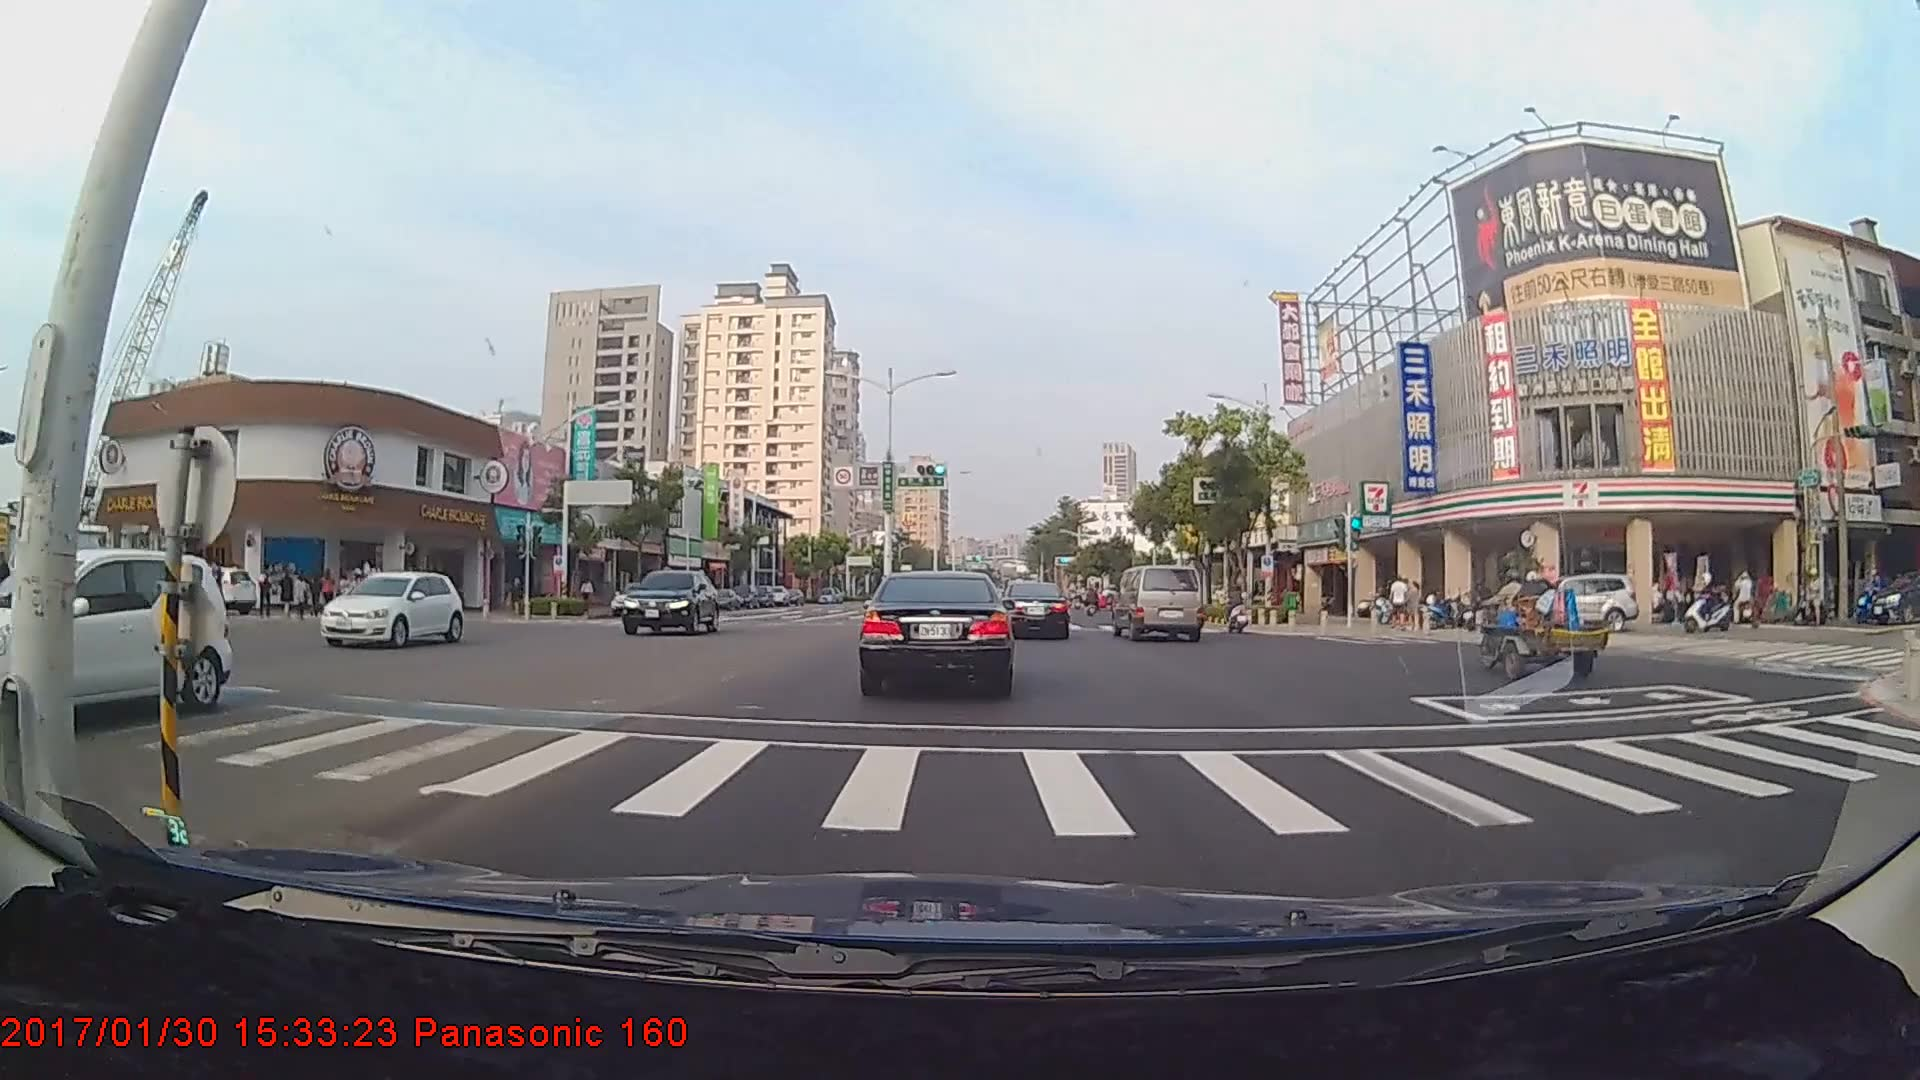pedestrian: (1387, 572, 1408, 629)
rider: (1679, 568, 1743, 638), (1216, 582, 1256, 637)
vehicle: (0, 546, 231, 722), (859, 565, 1013, 695), (318, 569, 462, 647), (1481, 574, 1634, 635), (1114, 564, 1202, 642), (618, 569, 719, 637), (1001, 580, 1070, 640)
